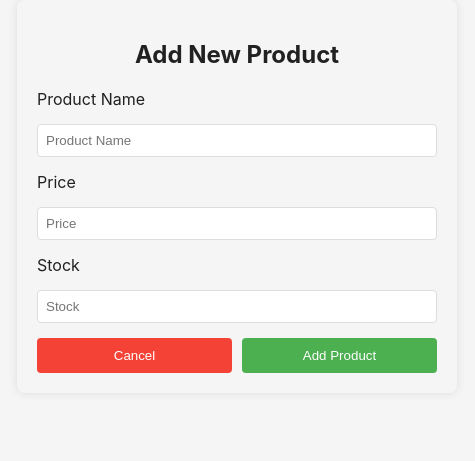
AddProduct Component › displays error message on API failure
Type "Duplicate" into the field with placeholder "Product Name" at [237, 140], box [37, 124, 437, 157]
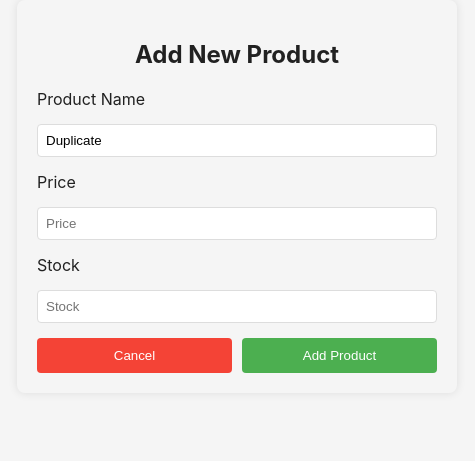
Type "10" into the number field with placeholder "Price" at [237, 223], box [37, 207, 437, 240]
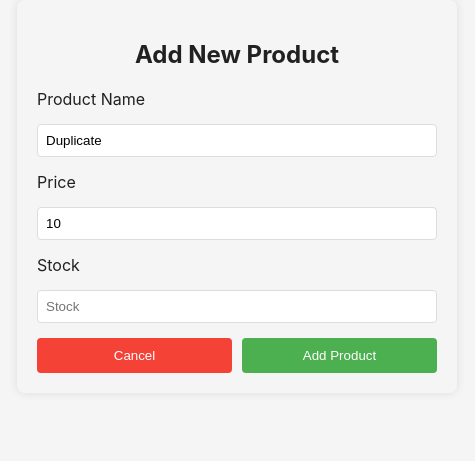
Type "10" into the number field with placeholder "Stock" at [237, 306], box [37, 290, 437, 323]
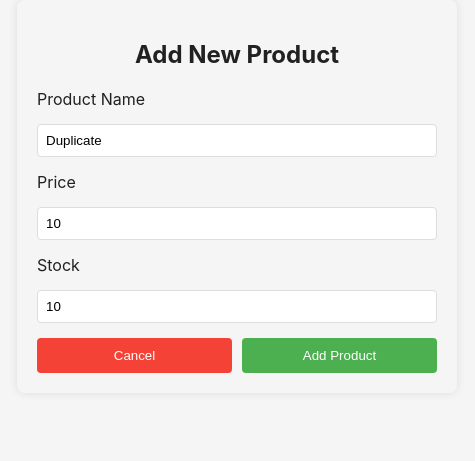
Click the button "Add Product" at [340, 355], box [242, 338, 437, 373]
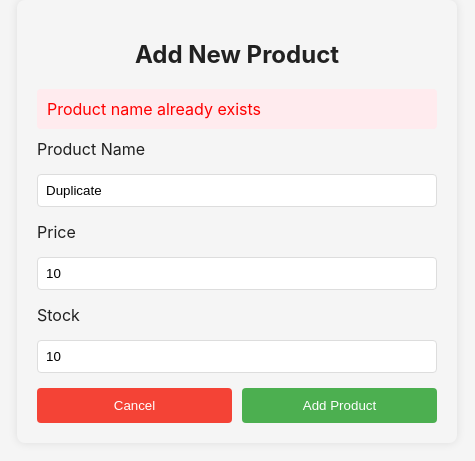
expect the text "Product name already exists" is shown: met, box [37, 89, 437, 129]
